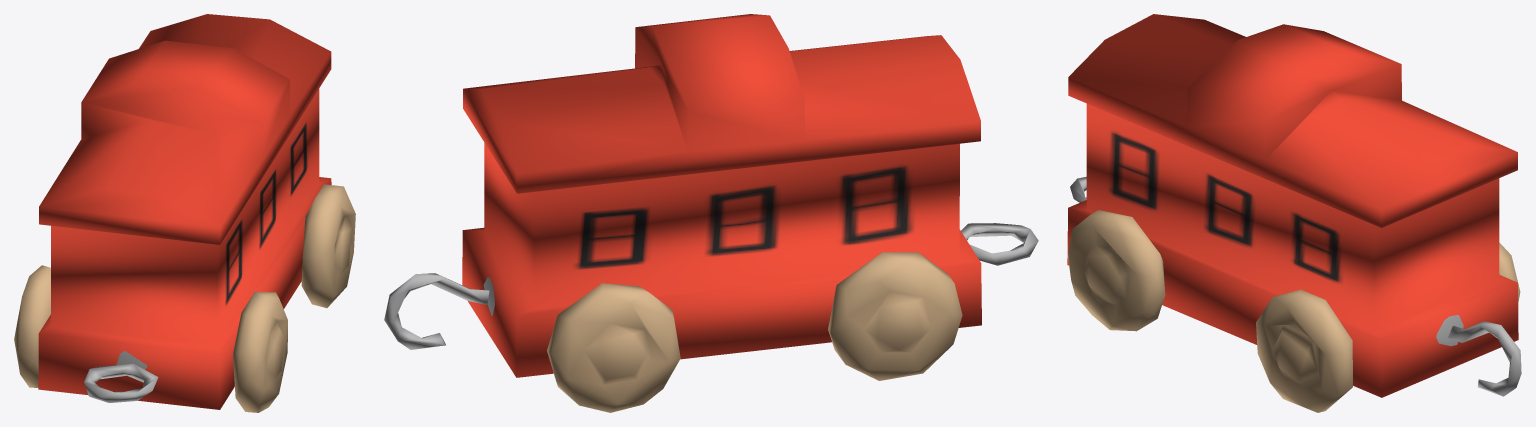
Rendered from red.fbx.
3 renders of one model, left to right at view 1: azimuth 30°, elevation 25°; view 2: azimuth 150°, elevation 25°; view 3: azimuth 270°, elevation 25°, orthographic. The views are drawn at different scales.
Visible parts, largest first — view 1: vagonefinale; view 2: vagonefinale; view 3: vagonefinale.
Part boxes in pixels (box(x1,y1,x2,y2)): vagonefinale: box(14, 14, 355, 412); vagonefinale: box(384, 14, 1038, 412); vagonefinale: box(1067, 14, 1521, 412).
Size of the model in its own units: 468 by 324 by 467.
3 materials, 1 textured.
